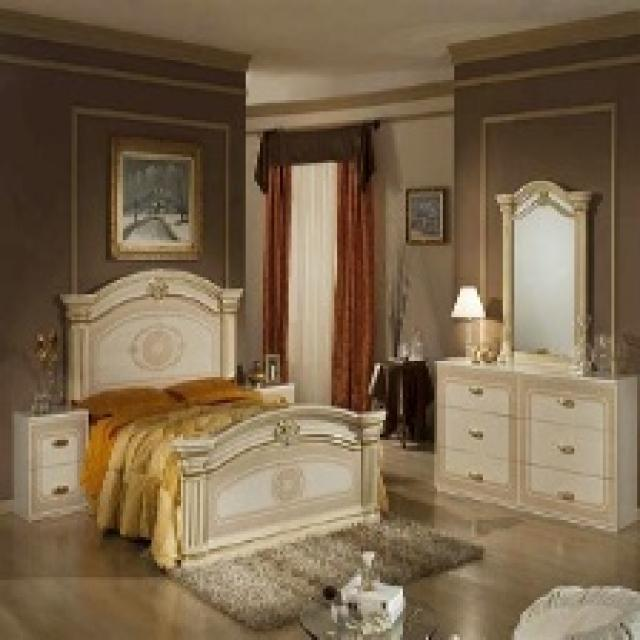Bed: (57, 266, 389, 571)
